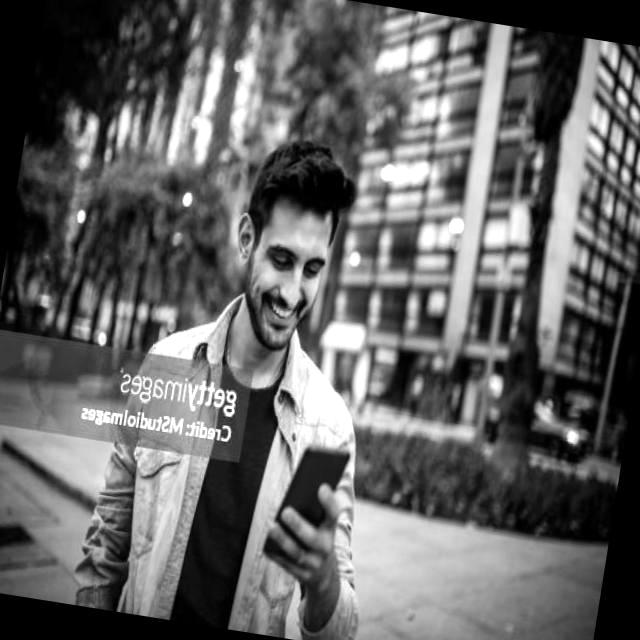phone: (262, 438, 352, 572)
